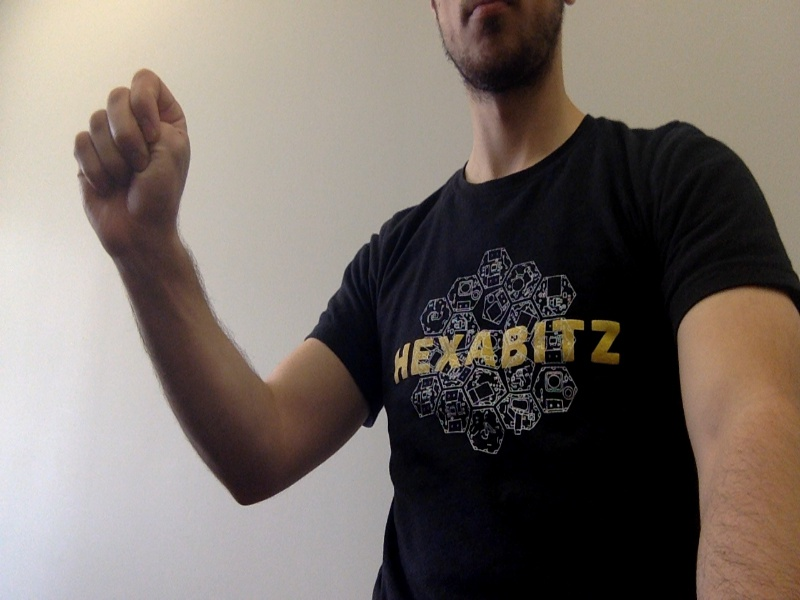0-hand: (73, 68, 191, 251)
